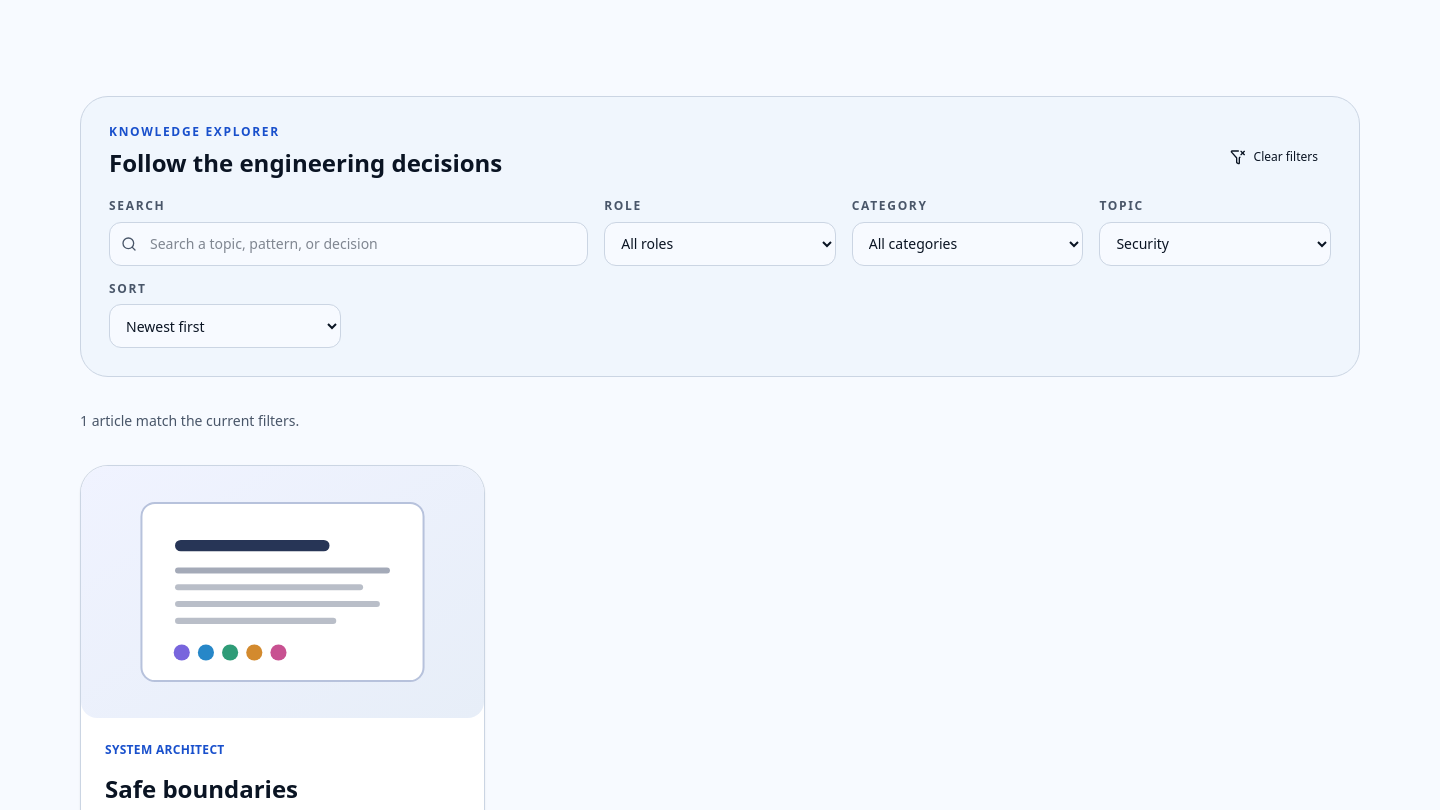
Test: public discovery components › restores the full curated Article snapshot when an SSR filter is cleared without escaping to the public collection
Expected: the link "Safe boundaries" is shown, [105, 772, 298, 805]
Expected: the text "Frontend state" is not shown
Click the button "Clear filters": (1274, 157) [1217, 135, 1331, 179]
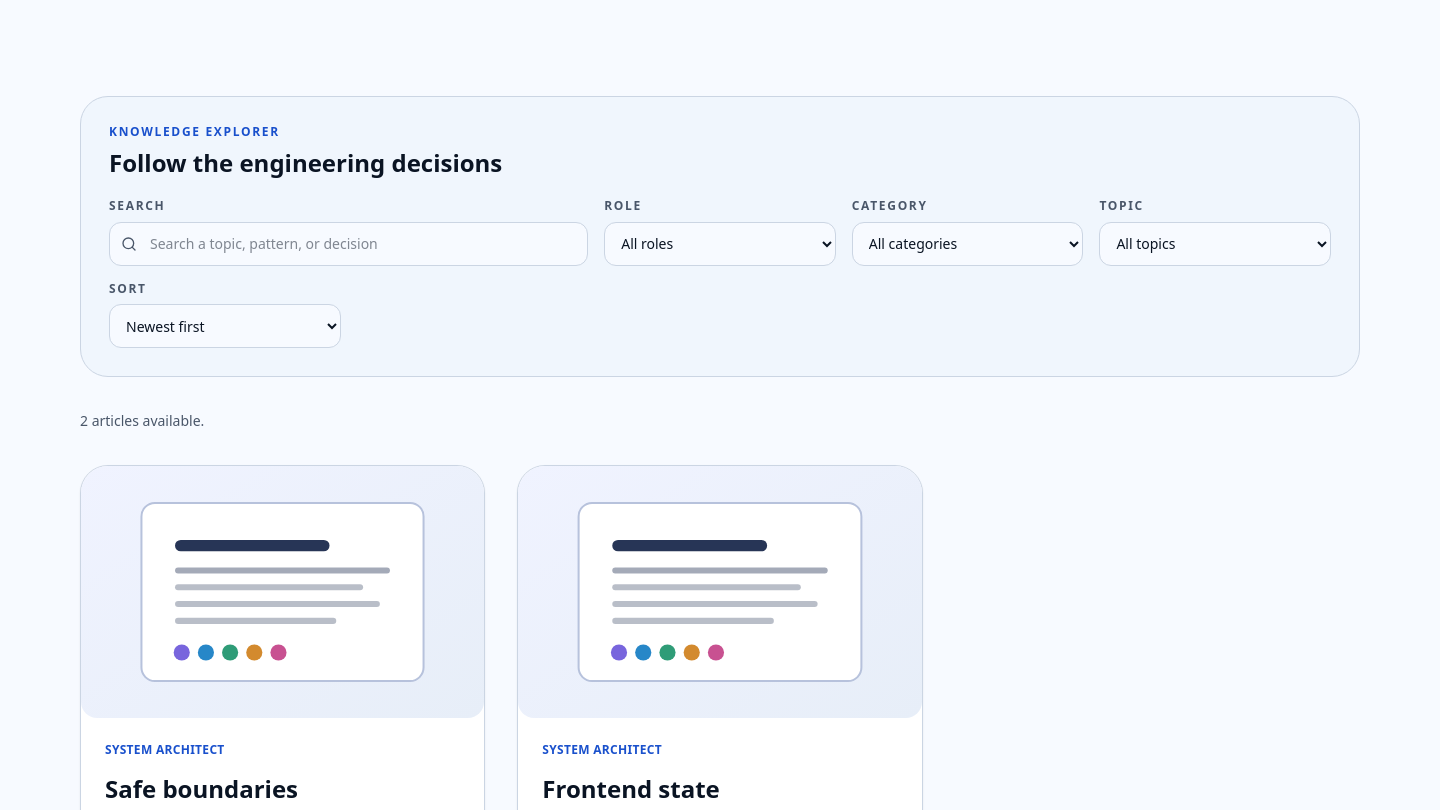
Expected: the link "Safe boundaries" is shown, [105, 772, 298, 805]
Result: the link "Frontend state" is shown at [542, 772, 720, 805]
